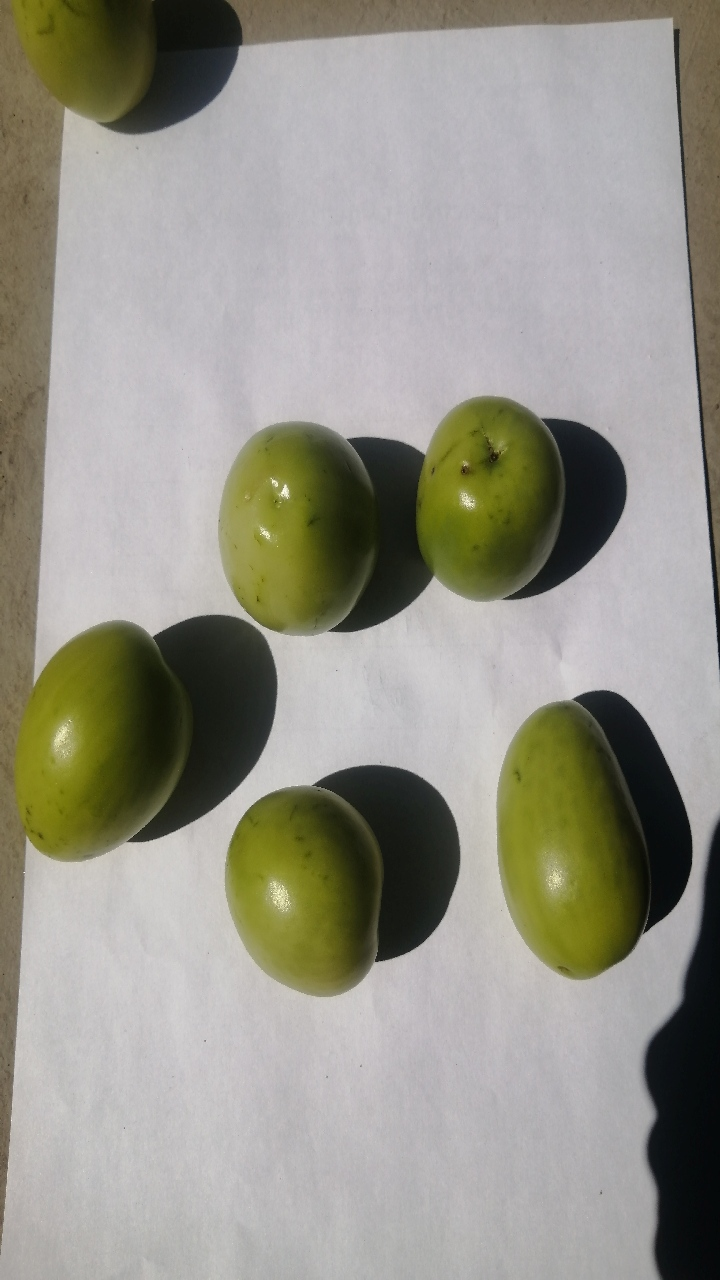tomateVerde: (463, 685, 657, 992), (204, 400, 398, 652), (17, 609, 195, 875), (211, 766, 397, 1015), (398, 362, 572, 620)
